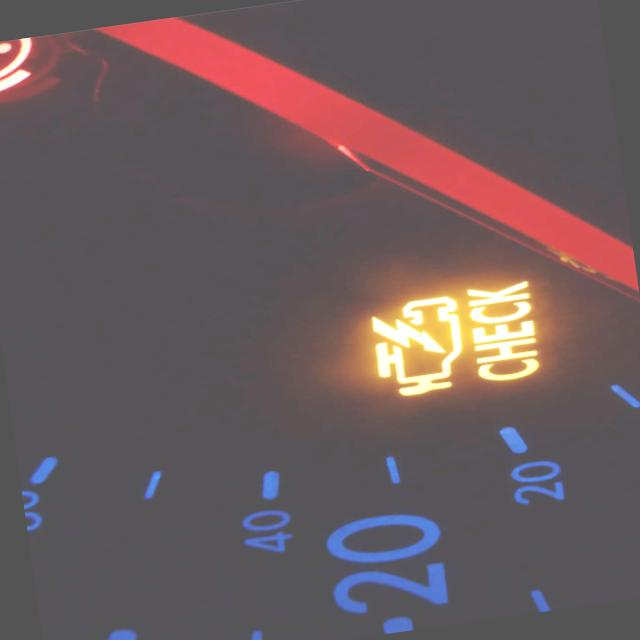kontrolka: (345, 264, 569, 419)
